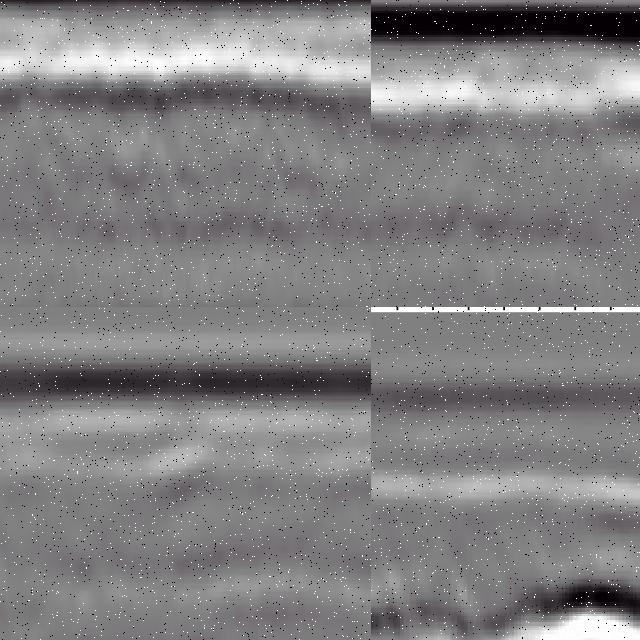loose: (84, 102, 372, 242), (529, 560, 640, 640), (372, 550, 469, 640)
